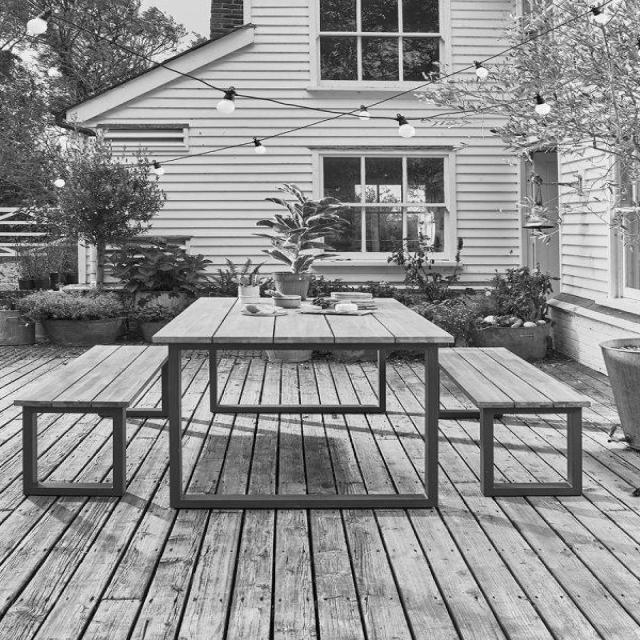table: (137, 255, 489, 414)
